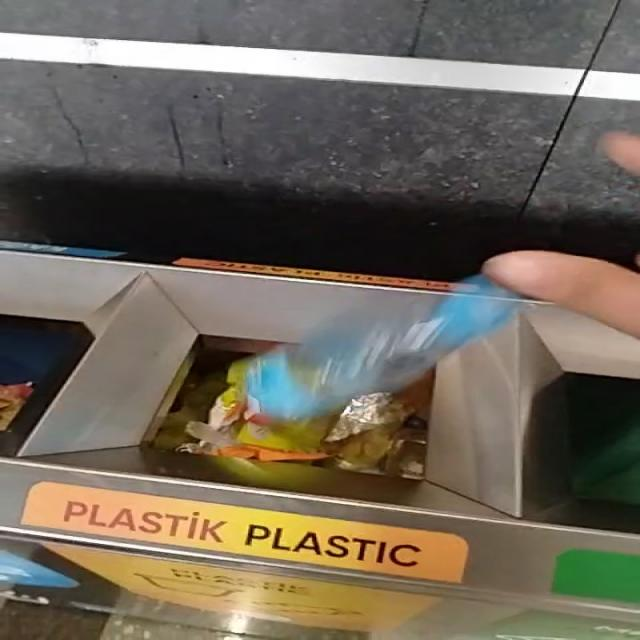plastic: (244, 276, 523, 421)
